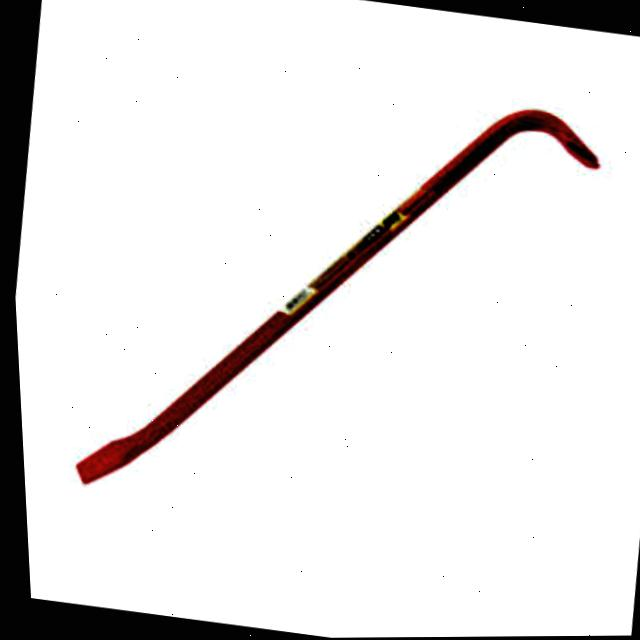crow bar: (43, 31, 628, 555)
